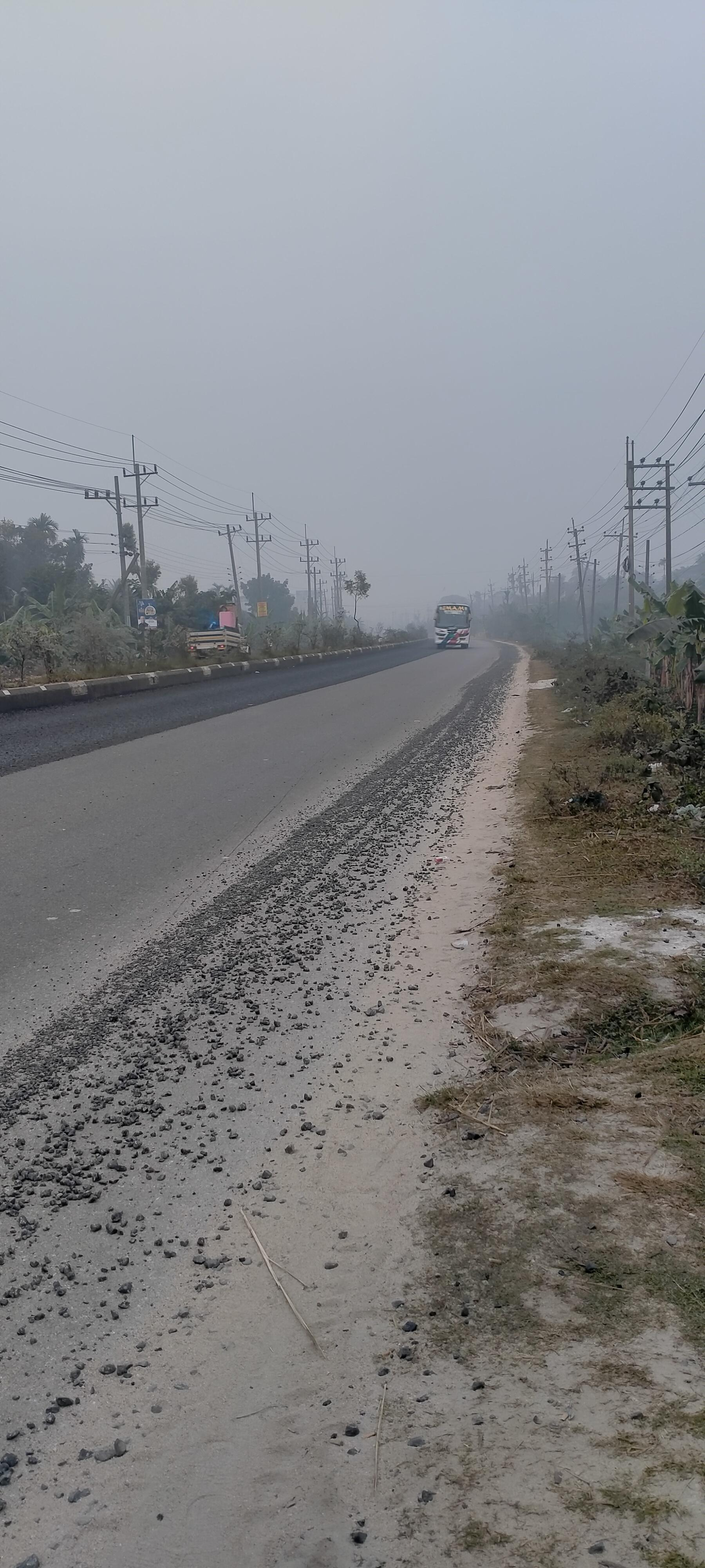Bus: (427, 594, 484, 657)
